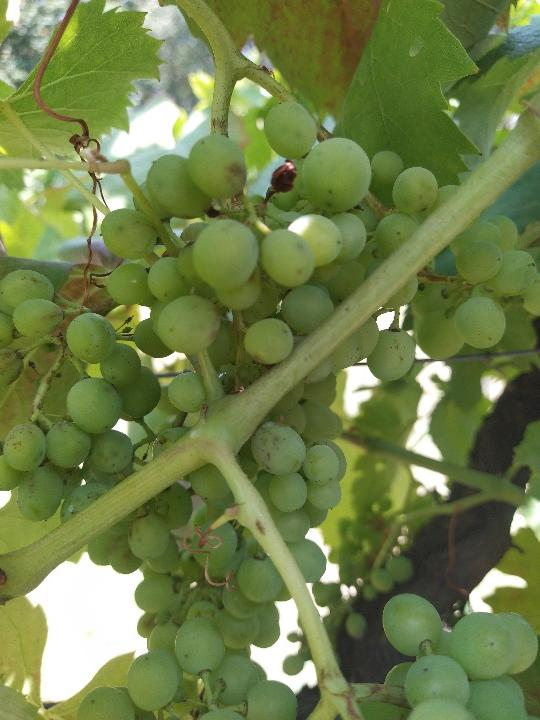grape: (7, 96, 532, 655)
